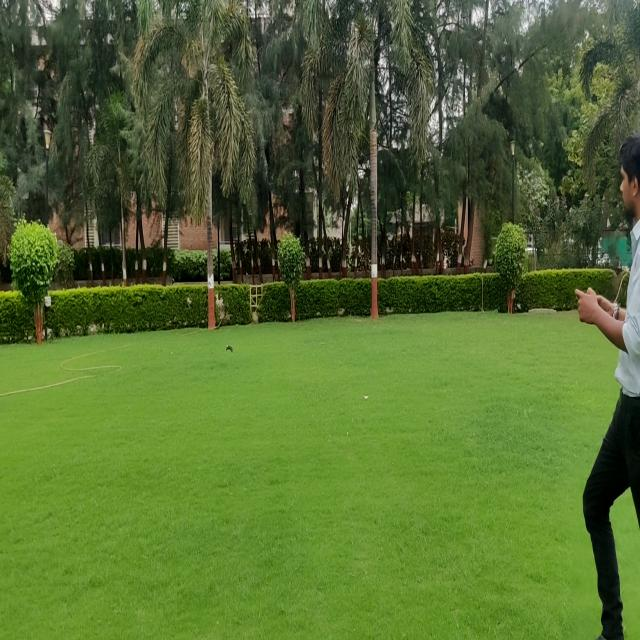drone: (219, 343, 236, 356)
